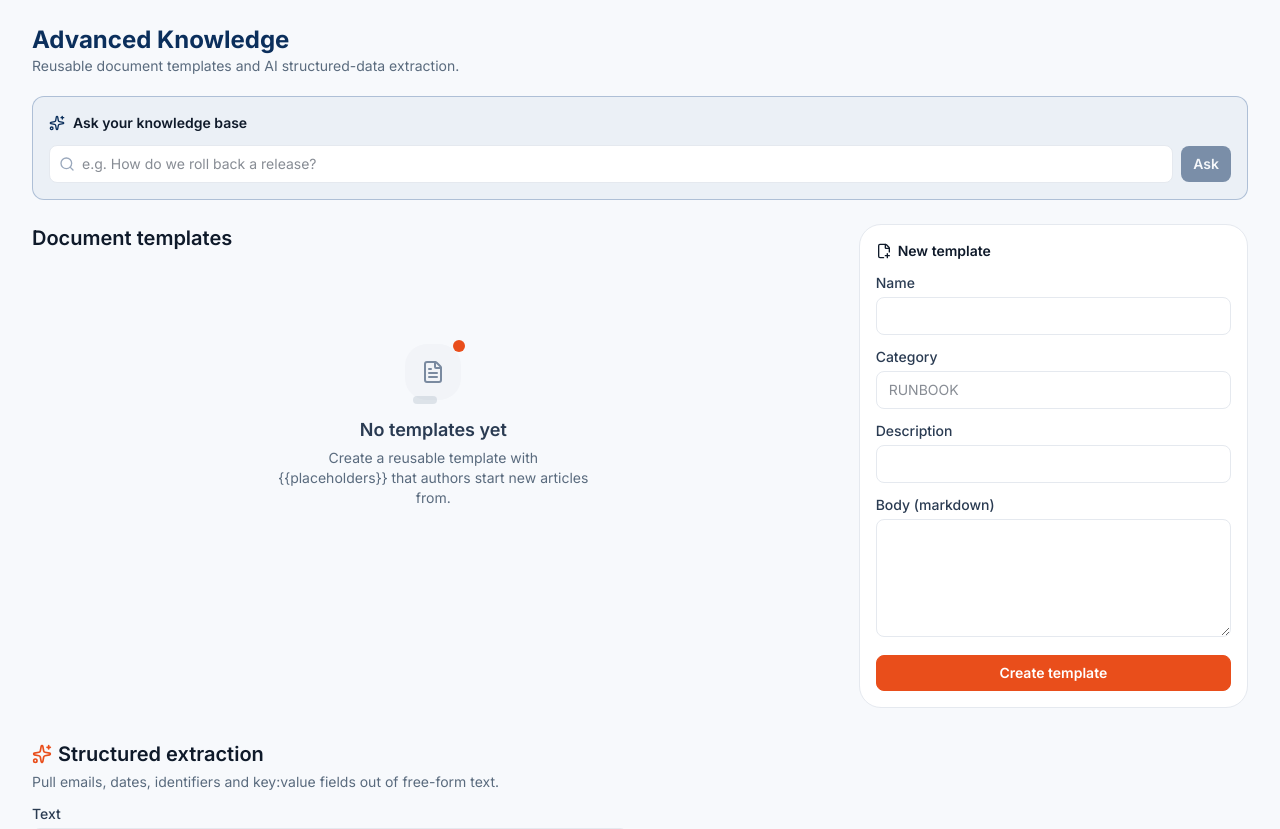
Scenario: KnowledgeTemplatesView › creates a template through the client
This screenshot has width=1280, height=829.
Check: the heading "No templates yet" is shown, box top-left (360, 416), bottom-right (507, 444)
In the field labelled "Name": (1053, 316) top-left (876, 297), bottom-right (1231, 335), type "My Template"
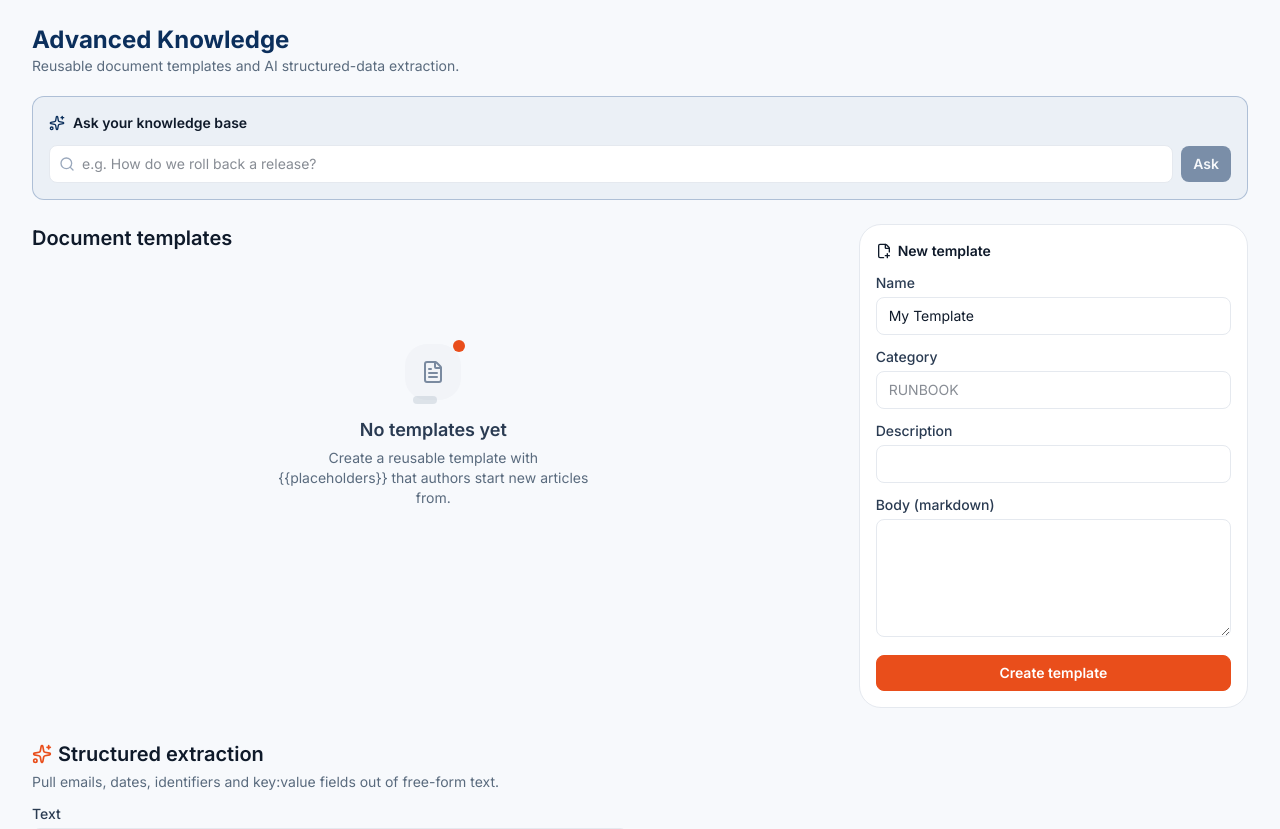
Click the button "Create template": click(1053, 673) top-left (876, 655), bottom-right (1231, 691)
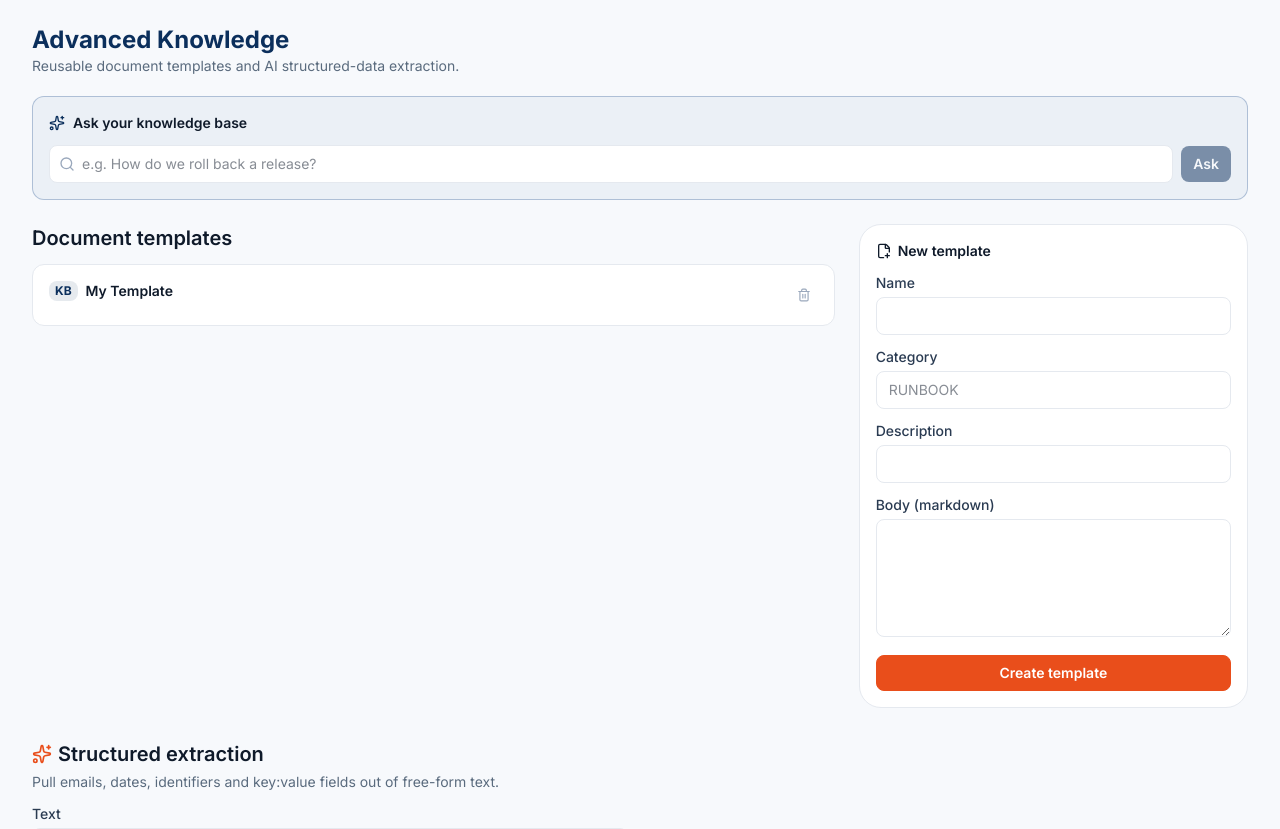
Check: the text "My Template" is shown, box top-left (86, 281), bottom-right (173, 301)
